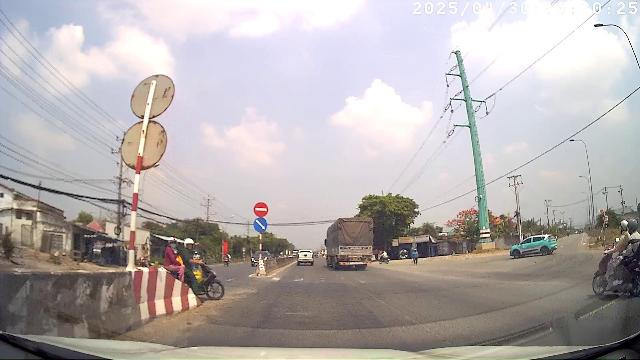102-cam-di-nguoc-chieu: (254, 202, 268, 216)
302a-huong-phai-di-vong-chuong-ngai-vat-1: (254, 217, 267, 232)
